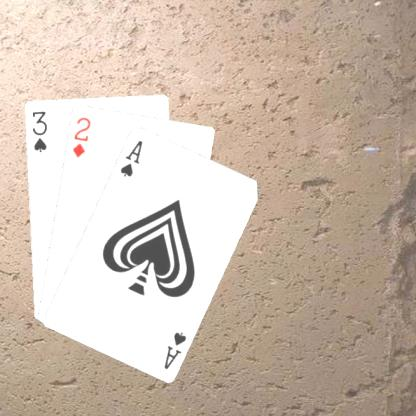2D: (69, 114, 92, 158)
3S: (28, 108, 48, 154)
AS: (160, 328, 188, 371), (117, 137, 144, 178)
